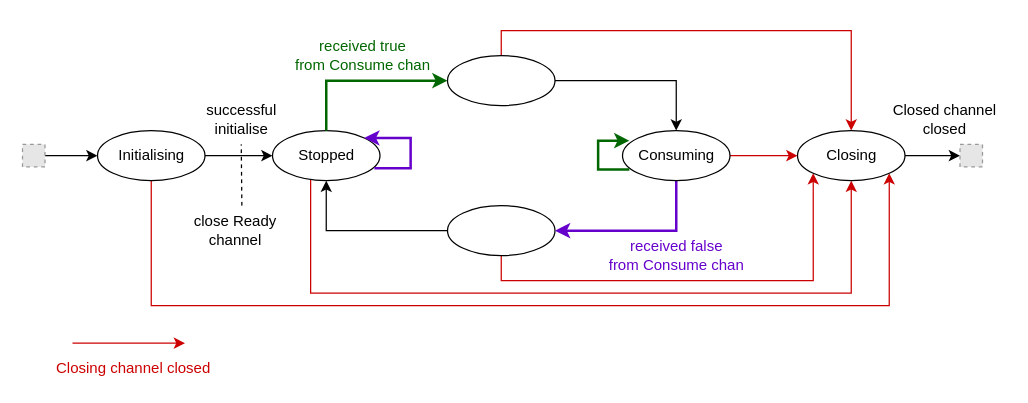
The diagram is 1028 pixels wide and 403 high, and some of its shapes have lost their labels. Grey dashed boxes stand in for pictures. Each missing label, with the box of its shape:
Starting: (446, 54, 555, 106)
Stopping: (446, 204, 555, 256)
